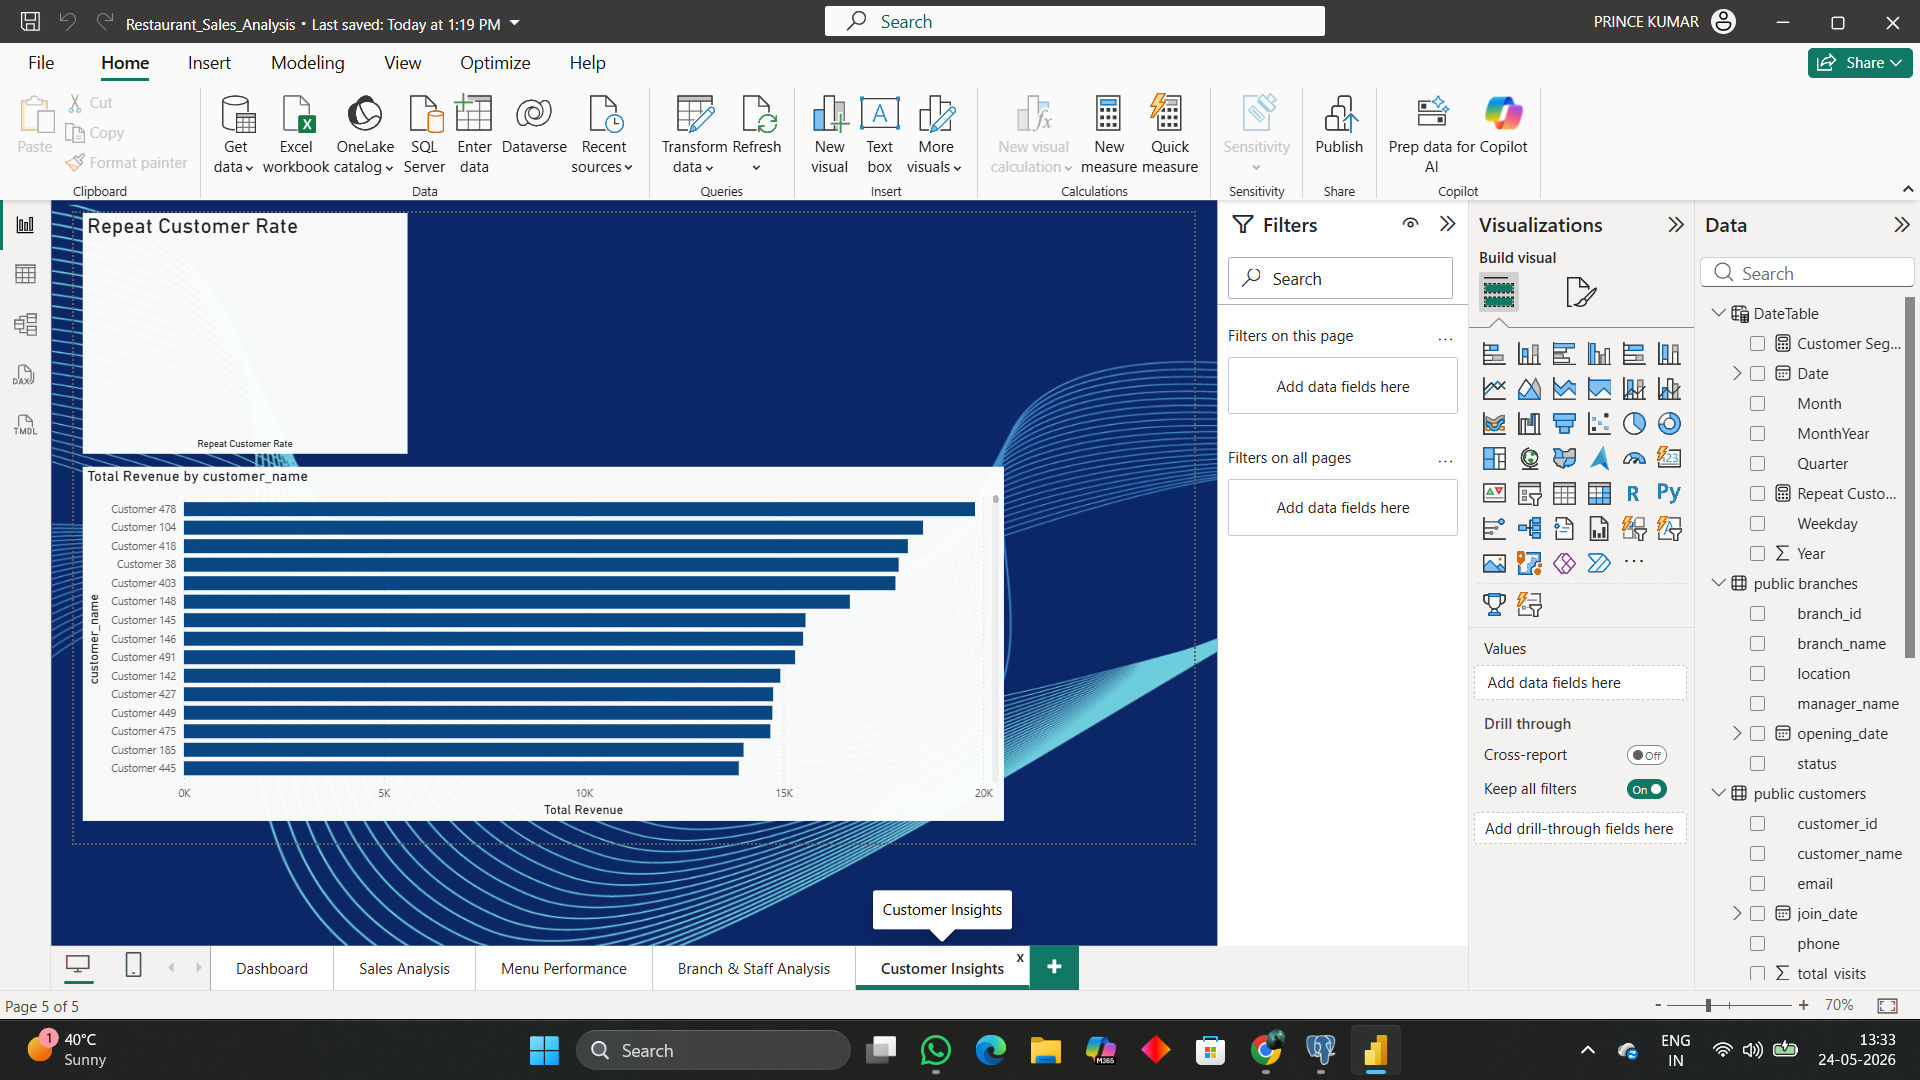

Layout of this report page (visuals, bound fields, positions):
{"tool":"powerbi","page":{"name":"Customer Insights","canvas":[1280,720],"ordinal":4},"visuals":[{"type":"barChart","fields":{"Y":["DateTable.Repeat Customer Rate"]},"box":[10,0,371.2,275],"z":0},{"type":"barChart","fields":{"Category":["public customers.customer_name"],"Y":["public sales.Total Revenue"]},"box":[10,290,1052.5,405],"z":1000}]}

Visuals, with their boxes on the page's 1280x720 design canvas (x1, y1, x2, y2). These are canvas units, not pixel positions in the 1920x1080 screenshot, which may show the page scaled, cropped or inside an application window:
barChart - DateTable.Repeat Customer Rate: detection(10, 0, 381, 275)
barChart - public customers.customer_name x public sales.Total Revenue: detection(10, 290, 1062, 695)
